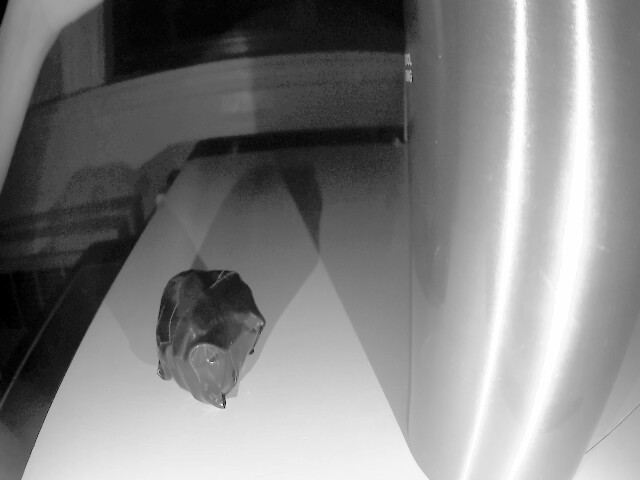silver: (161, 264, 267, 431)
